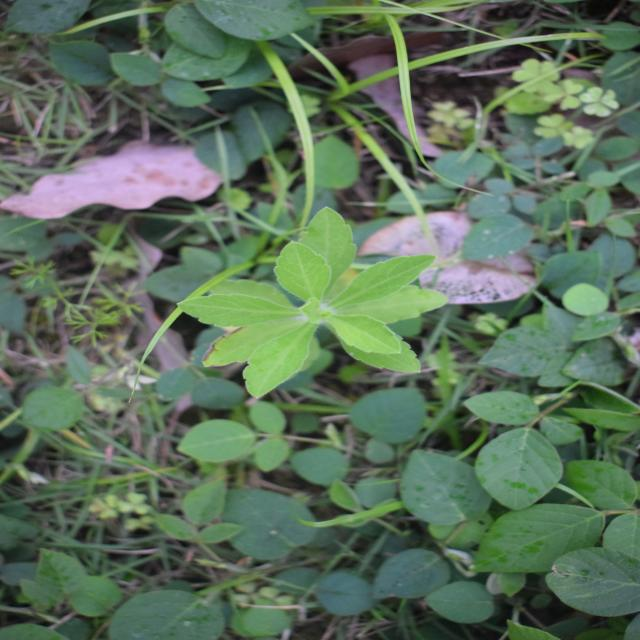horseweed: (223, 209, 385, 442)
